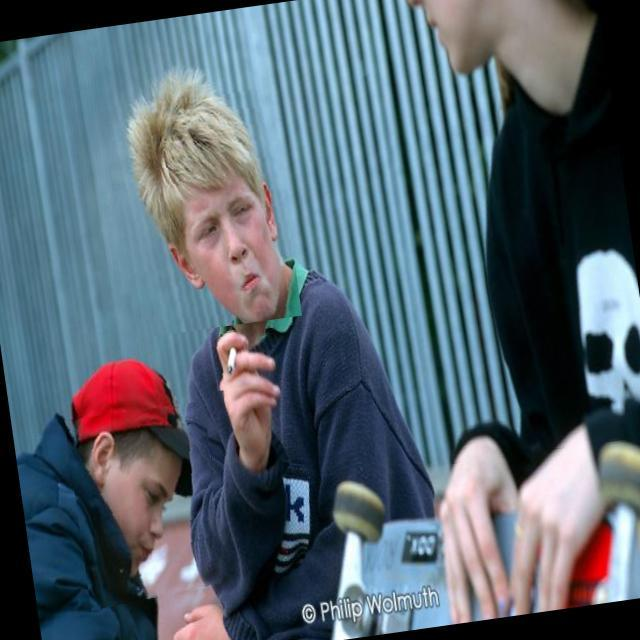cigarette: (210, 329, 254, 391)
